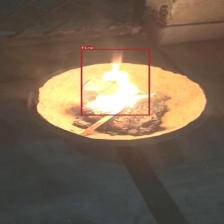fire: (81, 48, 149, 116)
